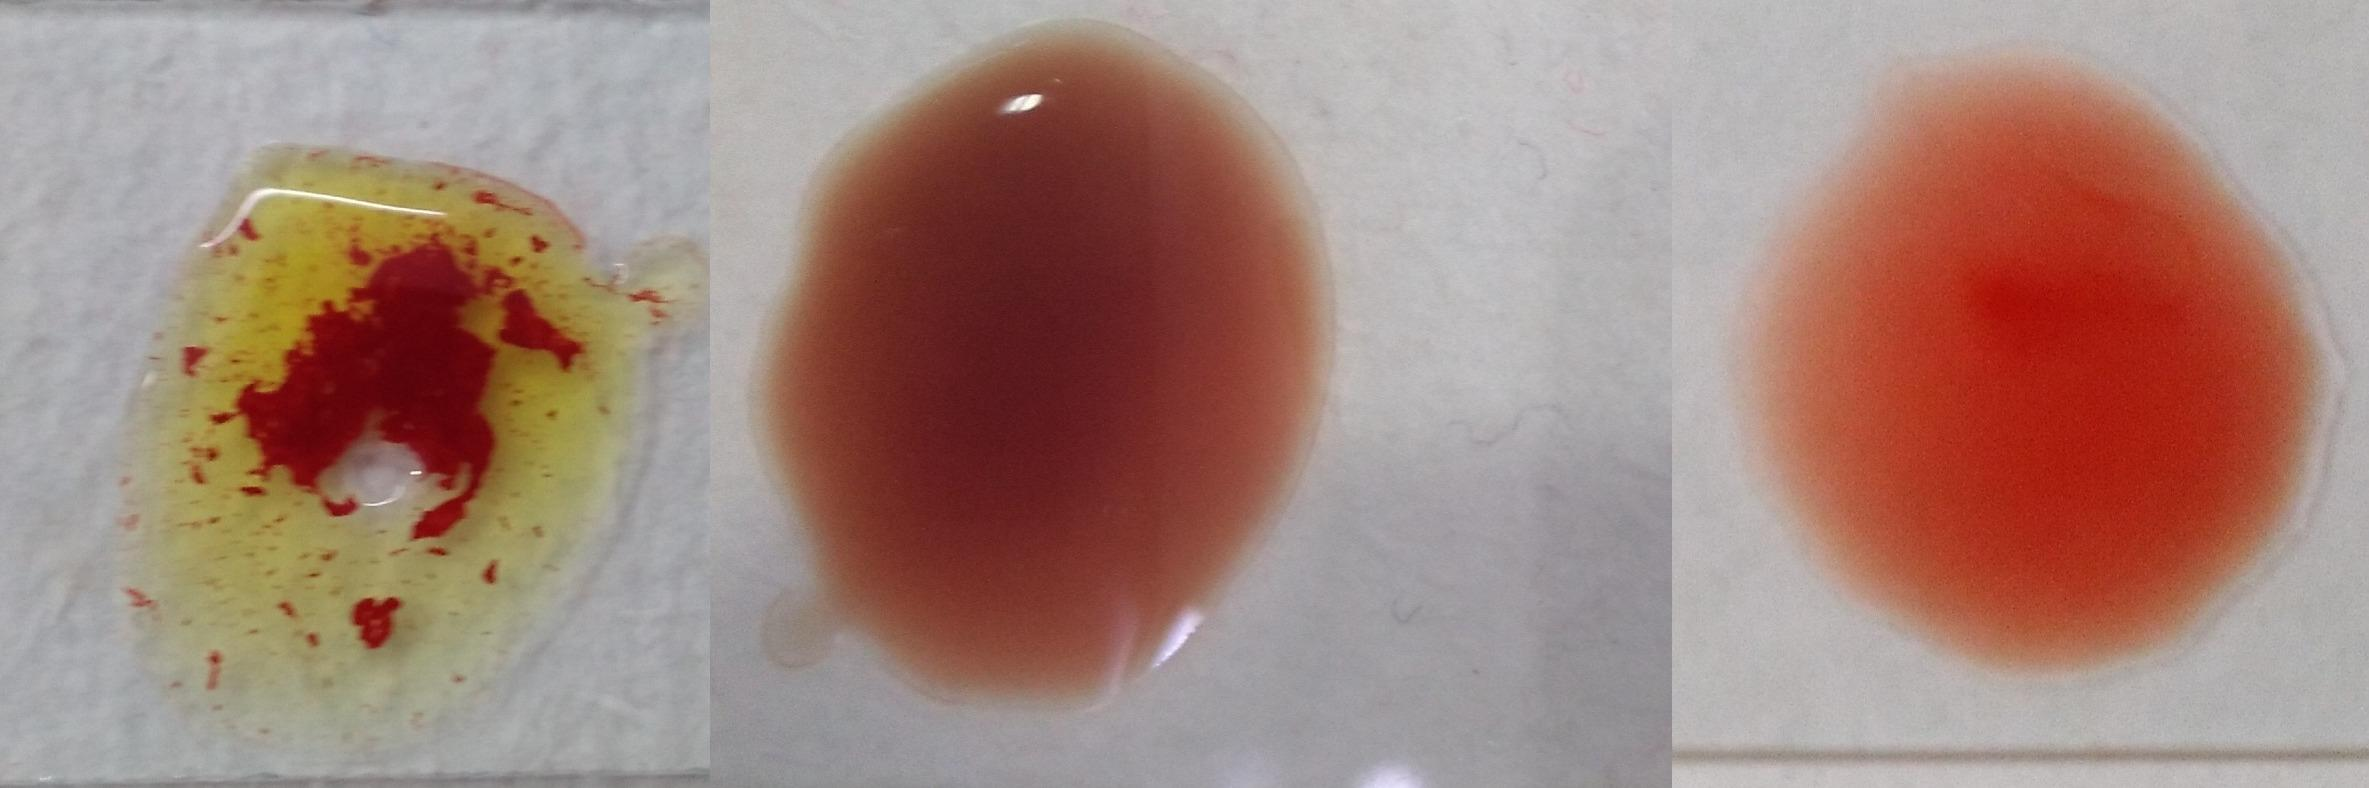B: (159, 175, 604, 717)
